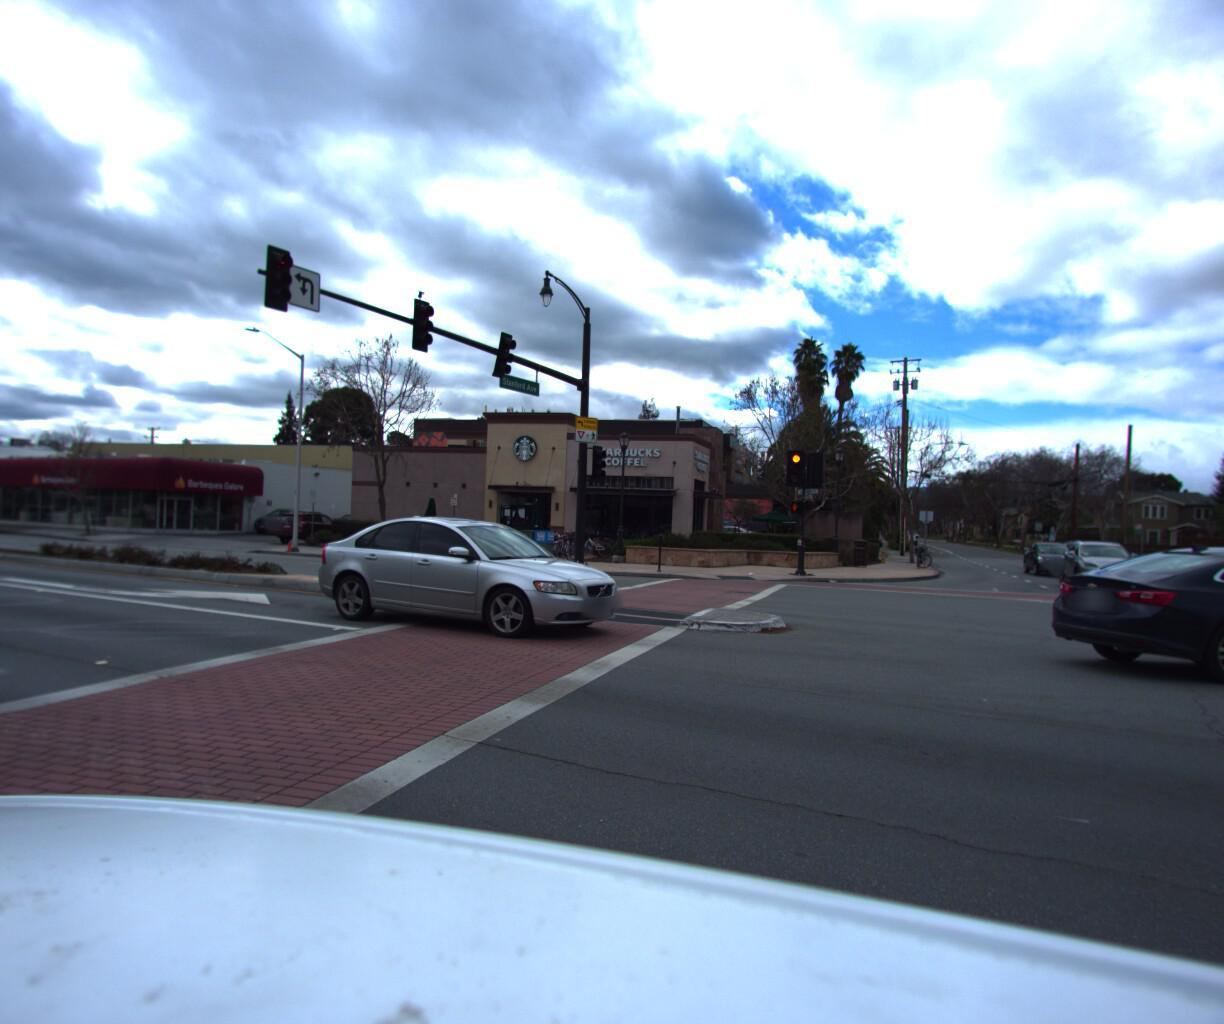bicycle: (907, 537, 935, 563)
car: (301, 504, 642, 649), (1028, 531, 1224, 684), (1051, 533, 1152, 589), (271, 503, 353, 537), (1017, 533, 1085, 571)
